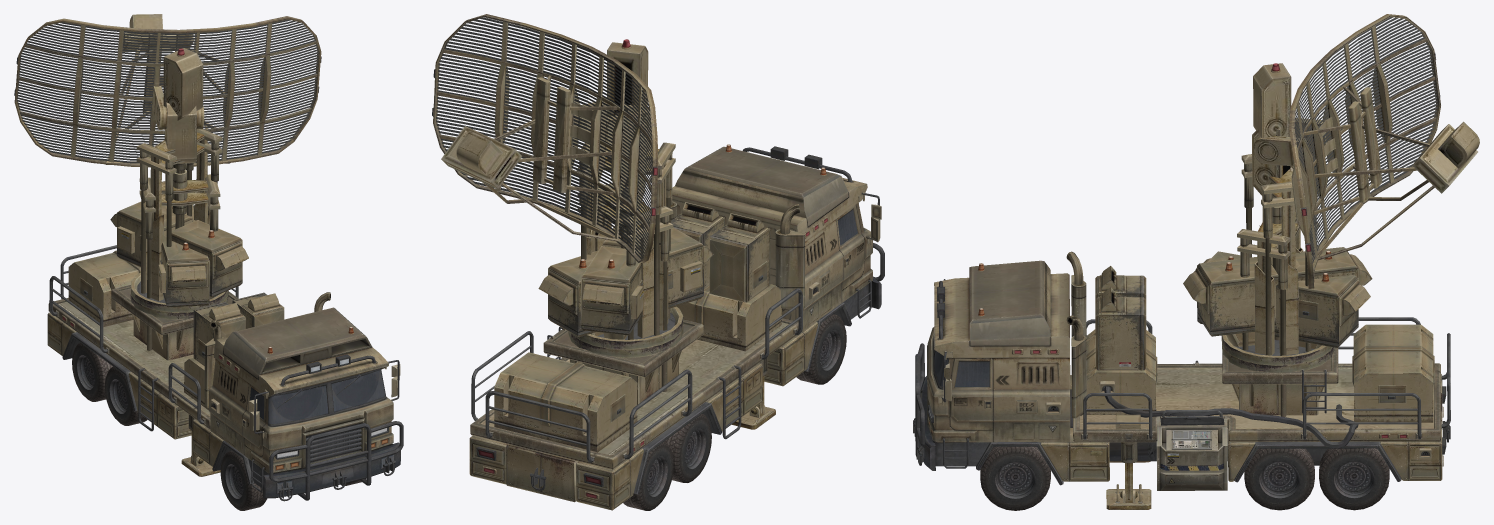
File: truck.glb
The picture shows the model from 3 angles, left to right: view 1: azimuth 30°, elevation 25°; view 2: azimuth 150°, elevation 25°; view 3: azimuth 270°, elevation 25°; orthographic projection. The views are drawn at different scales.
Parts seen in each view (by area): view 1: Object_7, Object_4, Object_5, Object_2, Object_3, Object_6; view 2: Object_7, Object_4, Object_5, Object_2, Object_6; view 3: Object_7, Object_4, Object_2, Object_5, Object_3, Object_9.
Part boxes in pixels (bbox=[...]): Object_7: bbox=[14, 14, 354, 484]; Object_4: bbox=[58, 288, 403, 501]; Object_5: bbox=[17, 19, 318, 163]; Object_2: bbox=[72, 342, 366, 510]; Object_3: bbox=[249, 370, 385, 423]; Object_6: bbox=[62, 48, 387, 470]; Object_7: bbox=[432, 14, 851, 510]; Object_4: bbox=[476, 146, 884, 499]; Object_5: bbox=[436, 17, 652, 259]; Object_2: bbox=[623, 314, 846, 510]; Object_6: bbox=[478, 39, 827, 498]; Object_7: bbox=[976, 14, 1479, 509]; Object_4: bbox=[913, 260, 1450, 470]; Object_2: bbox=[980, 446, 1389, 510]; Object_5: bbox=[1294, 17, 1437, 263]; Object_3: bbox=[934, 351, 989, 386]; Object_9: bbox=[1171, 430, 1211, 449].
Size of the model in its own units: 595 by 855 by 1033.
Materials: 8 (7 with a texture image).
